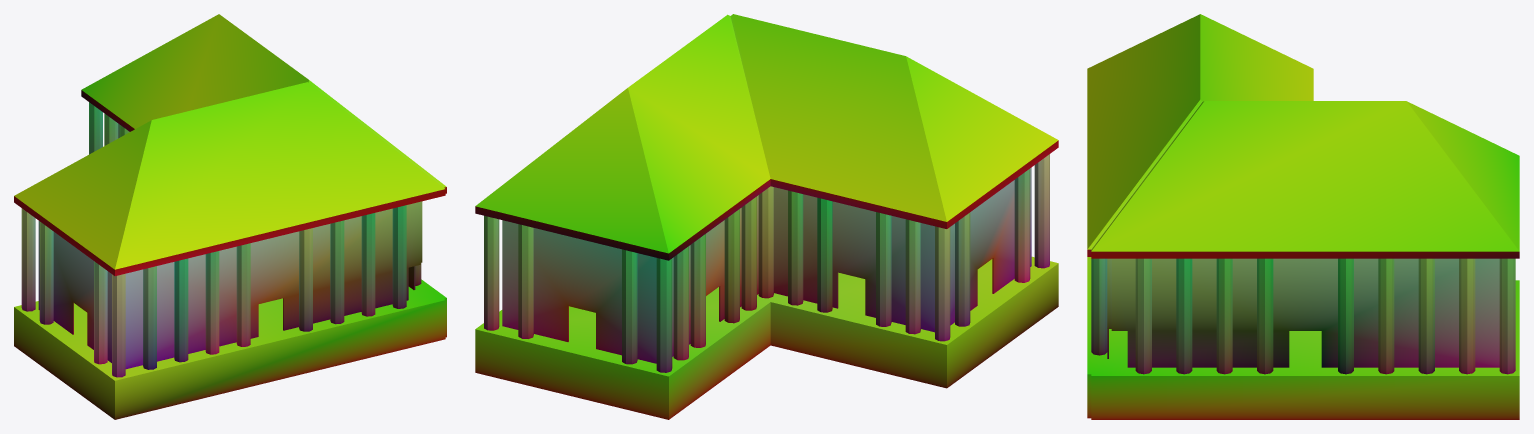
Rendered from MS_BuildingLarge_02_Col.fbx.
3 views of the same model, side by side, from view 1: azimuth 30°, elevation 25°; view 2: azimuth 150°, elevation 25°; view 3: azimuth 270°, elevation 25° (orthographic). The views are drawn at different scales.
Visible parts, largest first — view 1: MS_BuildingLarge_02_Col; view 2: MS_BuildingLarge_02_Col; view 3: MS_BuildingLarge_02_Col.
Part boxes in pixels (left/top/right/bottom): MS_BuildingLarge_02_Col: left=14, top=14, right=446, bottom=419; MS_BuildingLarge_02_Col: left=475, top=14, right=1058, bottom=419; MS_BuildingLarge_02_Col: left=1087, top=14, right=1519, bottom=419.
Size of the model in its own units: 5350 by 3700 by 5350.
